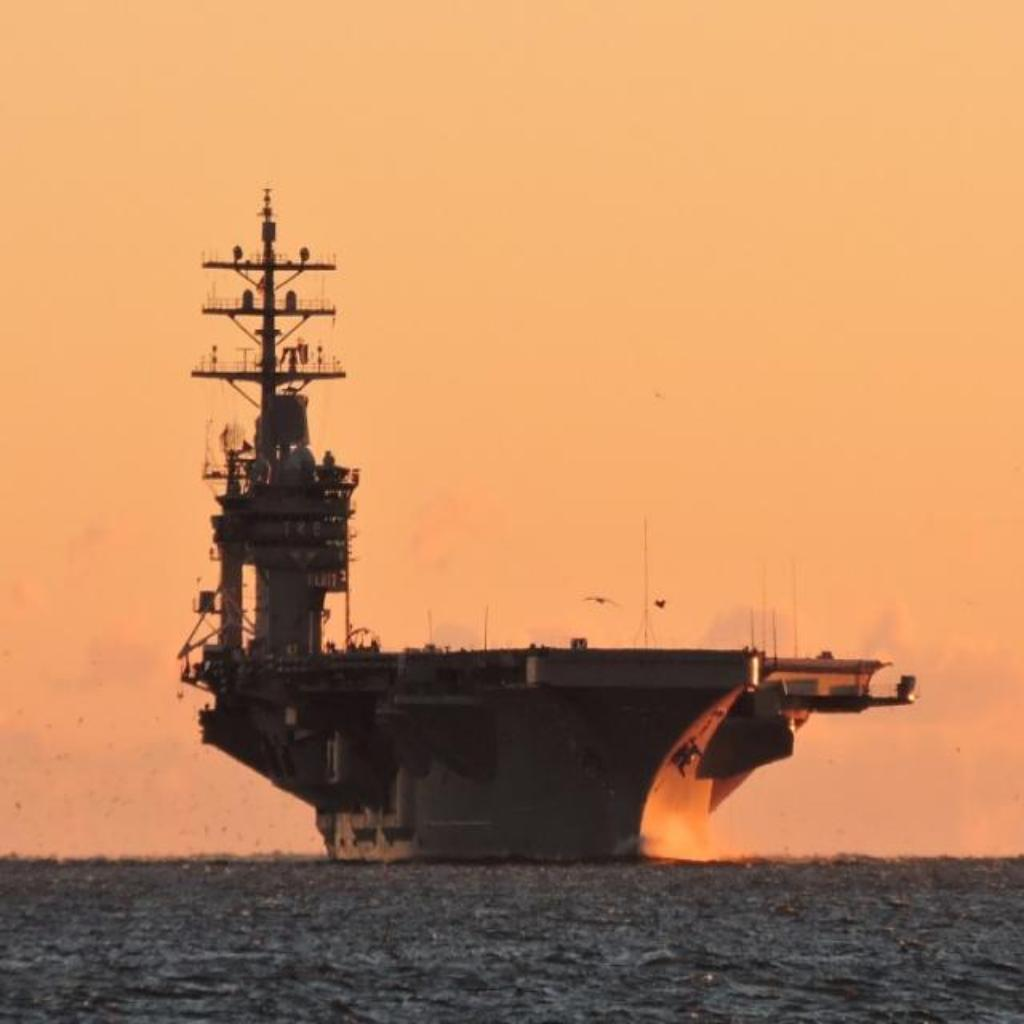Warship: (174, 179, 922, 867)
